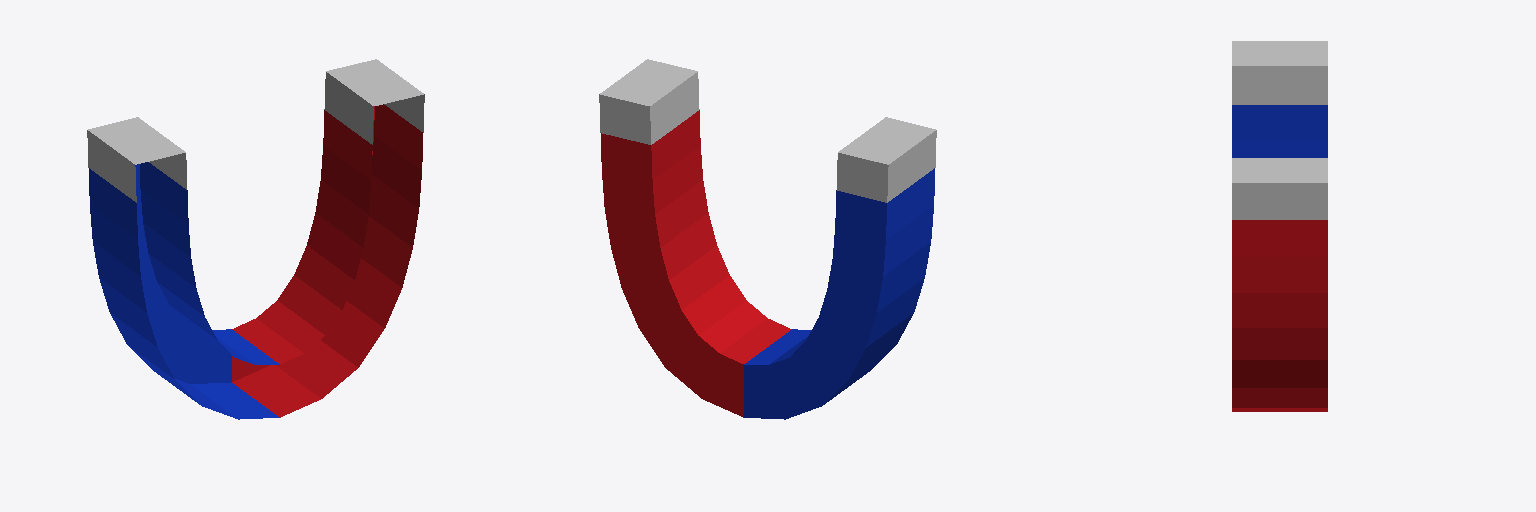
3 views of the same model, side by side, from view 1: azimuth 30°, elevation 25°; view 2: azimuth 150°, elevation 25°; view 3: azimuth 270°, elevation 25° (orthographic).
Visible parts, largest first — view 1: Magnet; view 2: Magnet; view 3: Magnet.
Part boxes in pixels (x1,y1,x2,y2): Magnet: (87,59,424,419); Magnet: (599,59,936,419); Magnet: (1232,41,1327,411).
Size of the model in its own units: 0.26 by 0.2475 by 0.075.